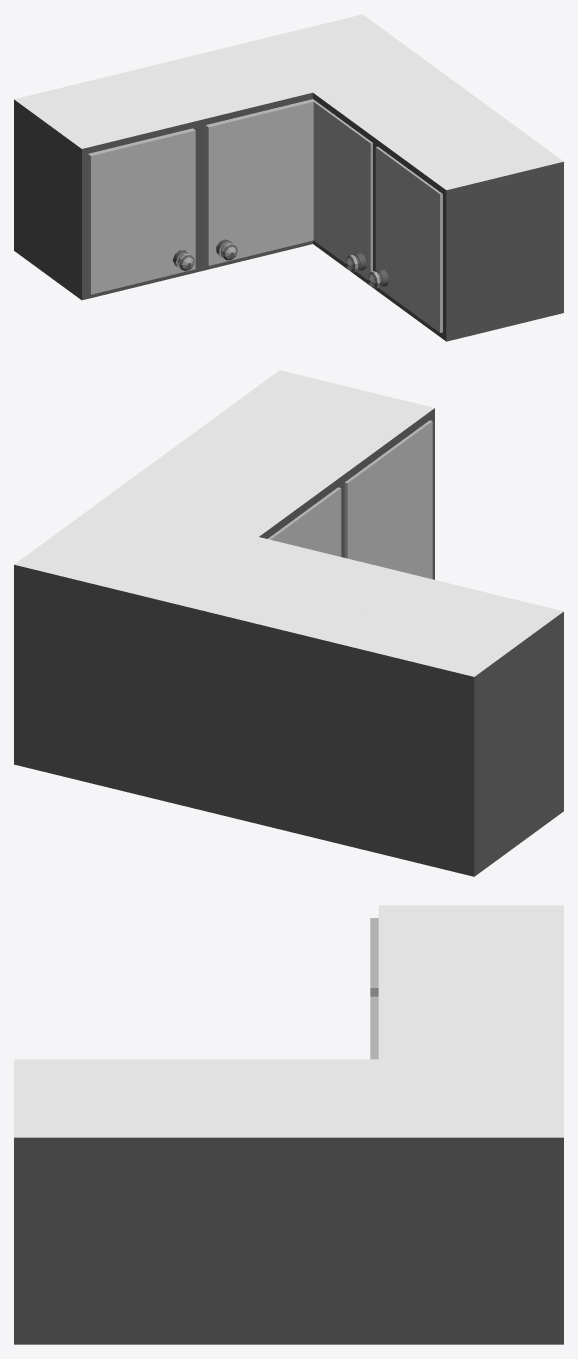
File: Cabinet_Gray_Upper_Corner.fbx
The picture shows the model from 3 angles, top to bottom: view 1: azimuth 30°, elevation 25°; view 2: azimuth 150°, elevation 25°; view 3: azimuth 270°, elevation 25°; orthographic projection. The views are drawn at different scales.
Visible parts, largest first — view 1: Cabinet_Gray_Upper_Corner, Cabinet_Gray_Upper02, Cabinet_Gray_Upper01, Cabinet_Gray_Upper04, Cabinet_Gray_Upper03; view 2: Cabinet_Gray_Upper_Corner, Cabinet_Gray_Upper04, Cabinet_Gray_Upper03; view 3: Cabinet_Gray_Upper_Corner, Cabinet_Gray_Upper01, Cabinet_Gray_Upper02.
Part boxes in pixels (box(x1,y1,x2,y2)): Cabinet_Gray_Upper_Corner: box(14, 14, 563, 341); Cabinet_Gray_Upper02: box(204, 99, 315, 265); Cabinet_Gray_Upper01: box(88, 128, 195, 294); Cabinet_Gray_Upper04: box(368, 146, 442, 332); Cabinet_Gray_Upper03: box(313, 101, 372, 279); Cabinet_Gray_Upper_Corner: box(14, 370, 563, 876); Cabinet_Gray_Upper04: box(344, 420, 432, 579); Cabinet_Gray_Upper03: box(268, 487, 341, 556); Cabinet_Gray_Upper_Corner: box(14, 905, 563, 1344); Cabinet_Gray_Upper01: box(370, 918, 378, 996); Cabinet_Gray_Upper02: box(370, 996, 378, 1059).
Size of the model in its own units: 200 by 82.98 by 200.
